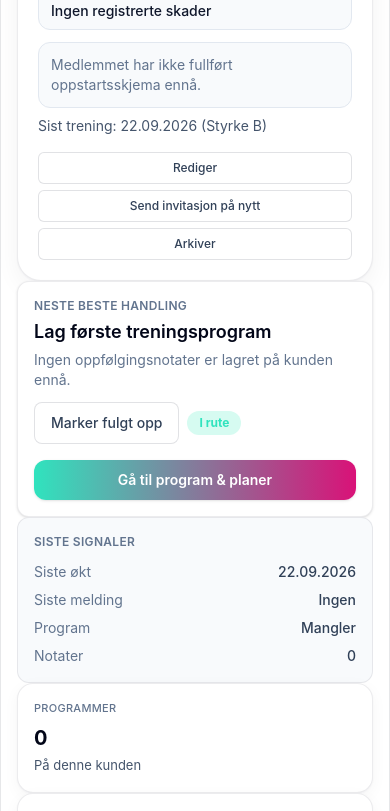
Test: Trainer flows › allows marking follow-up from customer overview
The image size is (390, 811).
(page scrolled)
Check: the text "Ingen oppfølgingsnotater er lagret på kunden ennå." is shown, box [34,350,356,390]
Click the button "Marker fulgt opp": [107, 423] box [34,402,180,444]
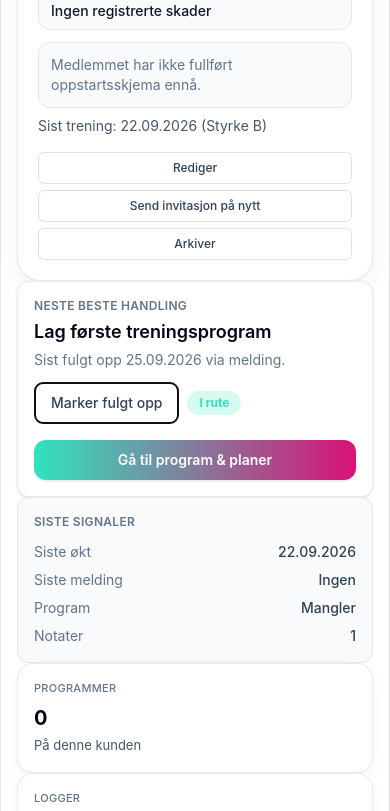
Check: the text "Ingen oppfølgingsnotater er lagret på kunden ennå." is gone
